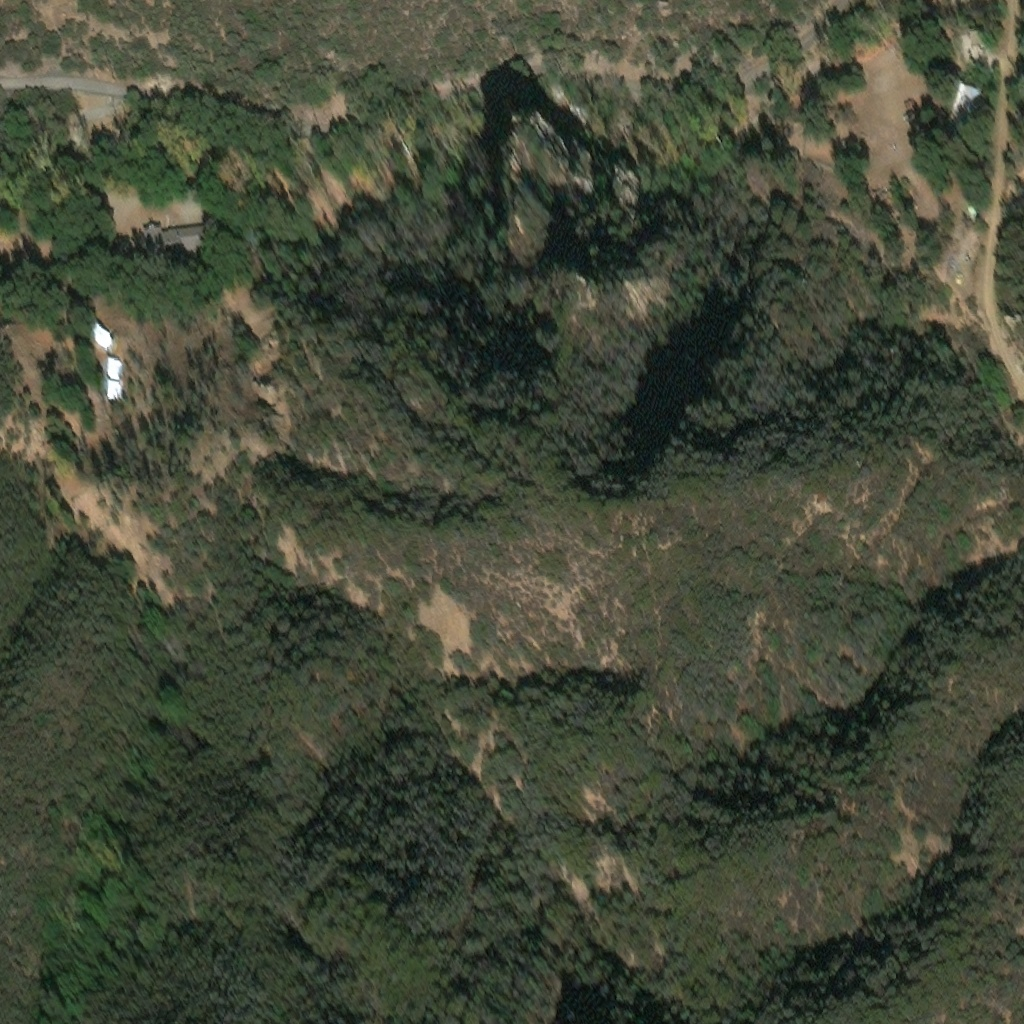0 no-damage: (140, 221, 205, 253), (943, 77, 982, 123), (87, 314, 107, 334), (100, 344, 114, 361), (99, 363, 112, 380)
4 un-classified: (856, 176, 886, 199), (966, 27, 982, 43), (958, 193, 972, 206)
